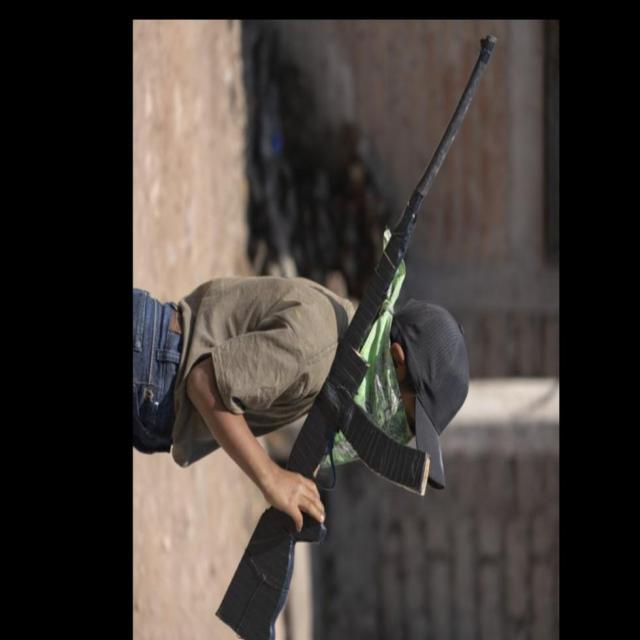weapon: (214, 30, 497, 640)
